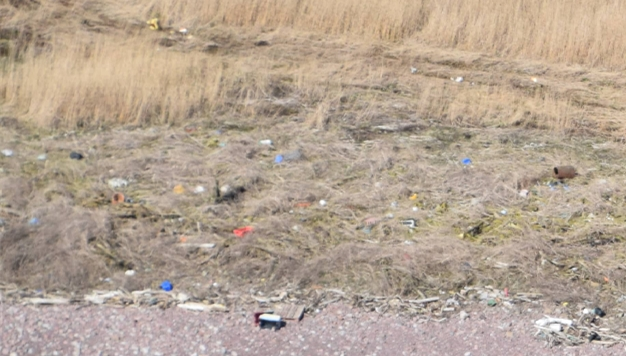scattered_barrel: (354, 153, 584, 242), (168, 136, 333, 239), (1, 143, 136, 237), (402, 54, 550, 100)
together_barrel: (354, 278, 626, 355)
white_in_green: (226, 269, 329, 356), (136, 259, 199, 310), (127, 2, 178, 46)
